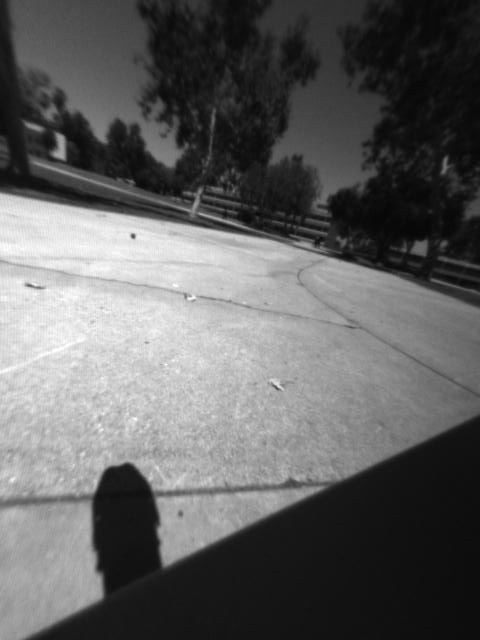dogtoy: (124, 221, 142, 251)
